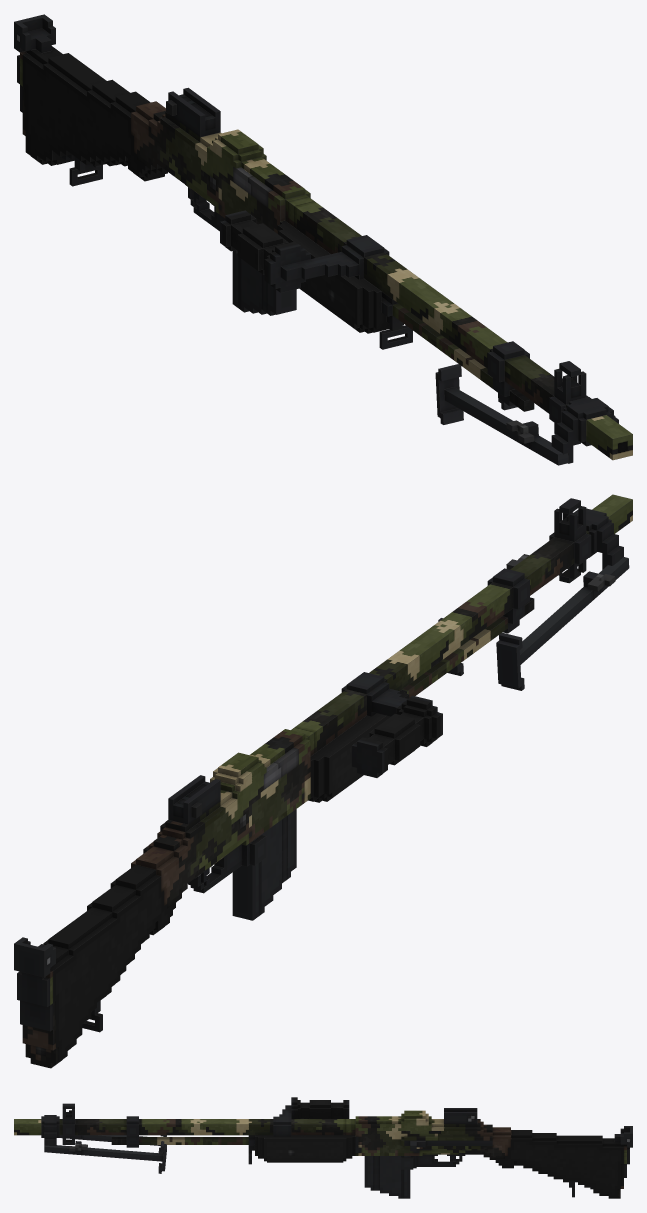
File: RD_BAR_MILITARY1945.glb
3 renders of one model, top to bottom at view 1: azimuth 30°, elevation 25°; view 2: azimuth 150°, elevation 25°; view 3: azimuth 270°, elevation 25°, orthographic. The views are drawn at different scales.
Visible parts, largest first — view 1: BAR, BAR_GRIP, BAR_DIPOD_LEG1, BAR_CLIP, BAR_DIPOD; view 2: BAR, BAR_GRIP, BAR_CLIP, BAR_DIPOD_LEG1, BAR_DIPOD; view 3: BAR, BAR_CLIP, BAR_GRIP, BAR_DIPOD_LEG2, BAR_BOLT, BAR_DIPOD, BAR_DIPOD_LEG1.
Boxes of the visible parts, x1,y1,x2,y2 form: BAR: (14,14,632,460); BAR_GRIP: (220,210,389,292); BAR_DIPOD_LEG1: (435,364,568,465); BAR_CLIP: (232,251,296,315); BAR_DIPOD: (551,397,618,463); BAR: (14,494,632,1068); BAR_GRIP: (341,672,442,777); BAR_CLIP: (232,809,296,920); BAR_DIPOD_LEG1: (496,557,629,690); BAR_DIPOD: (574,508,623,569); BAR: (14,1103,632,1198); BAR_CLIP: (364,1156,410,1198); BAR_GRIP: (273,1097,349,1136); BAR_DIPOD_LEG2: (44,1141,166,1173); BAR_BOLT: (404,1140,492,1151); BAR_DIPOD: (41,1115,59,1146); BAR_DIPOD_LEG1: (59,1135,166,1153).
Size of the model in its own units: 0.2559 by 0.3248 by 2.
1 material, 1 textured.
